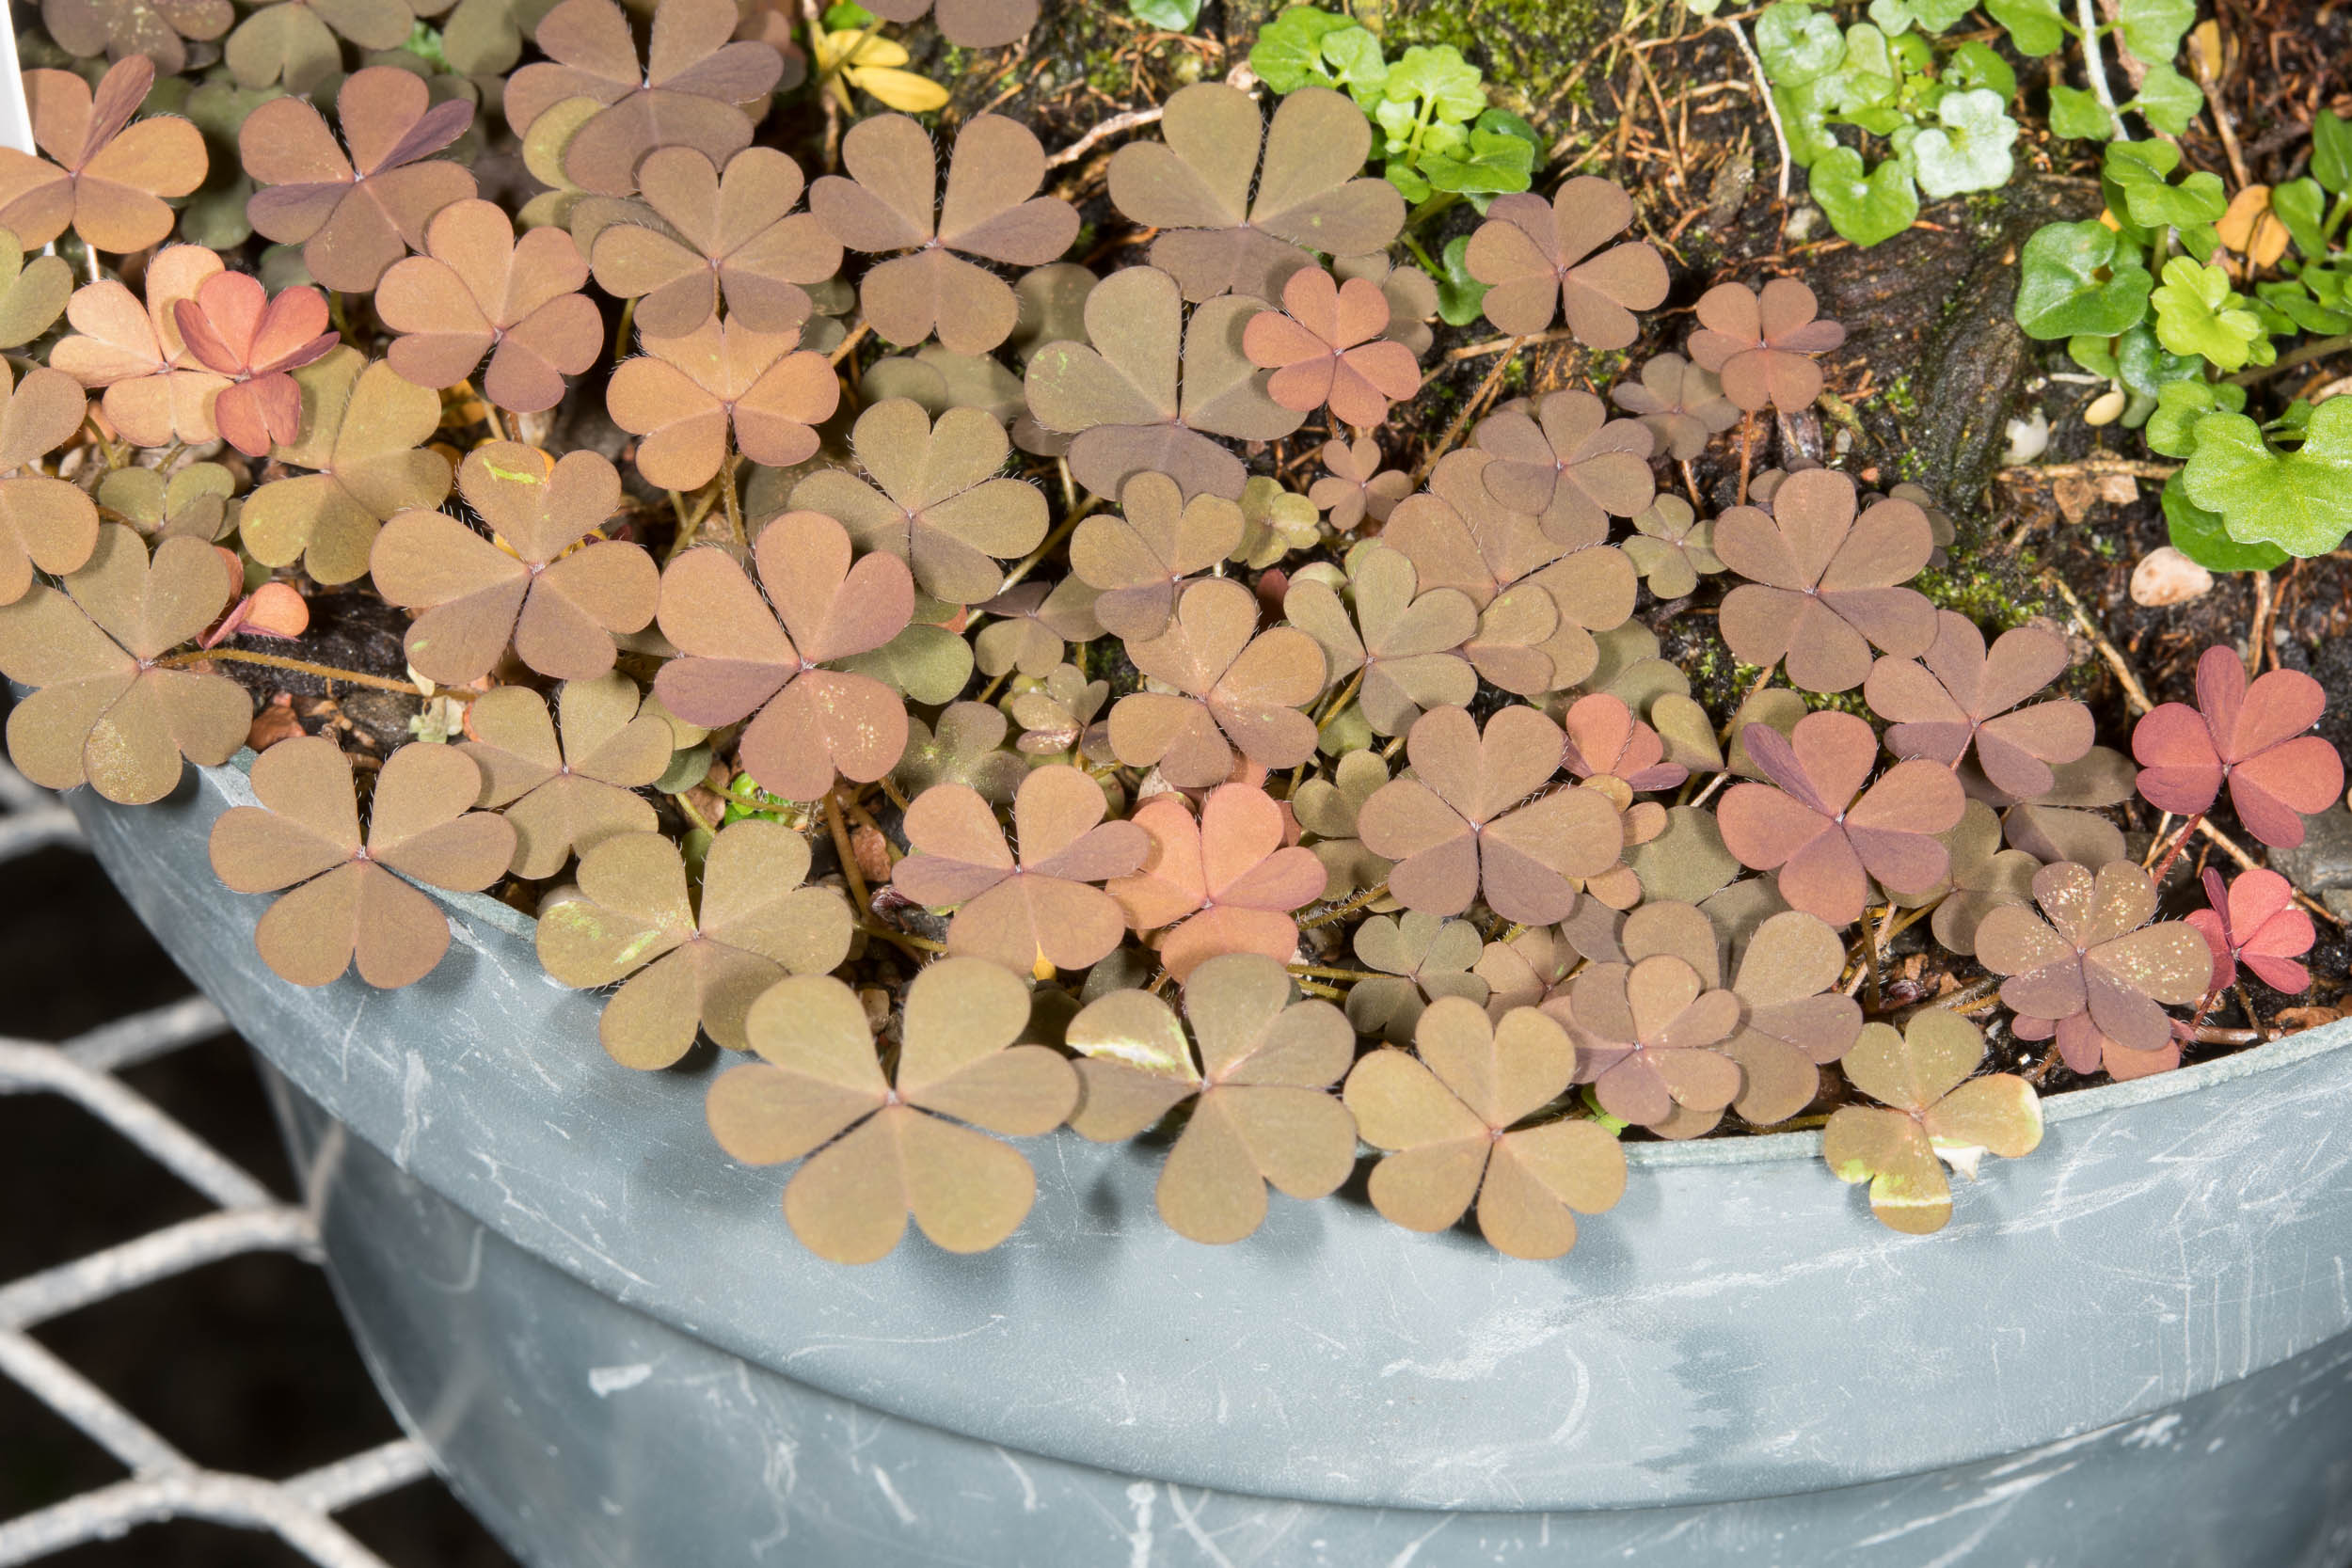oxalis: (33, 56, 2292, 1349)
